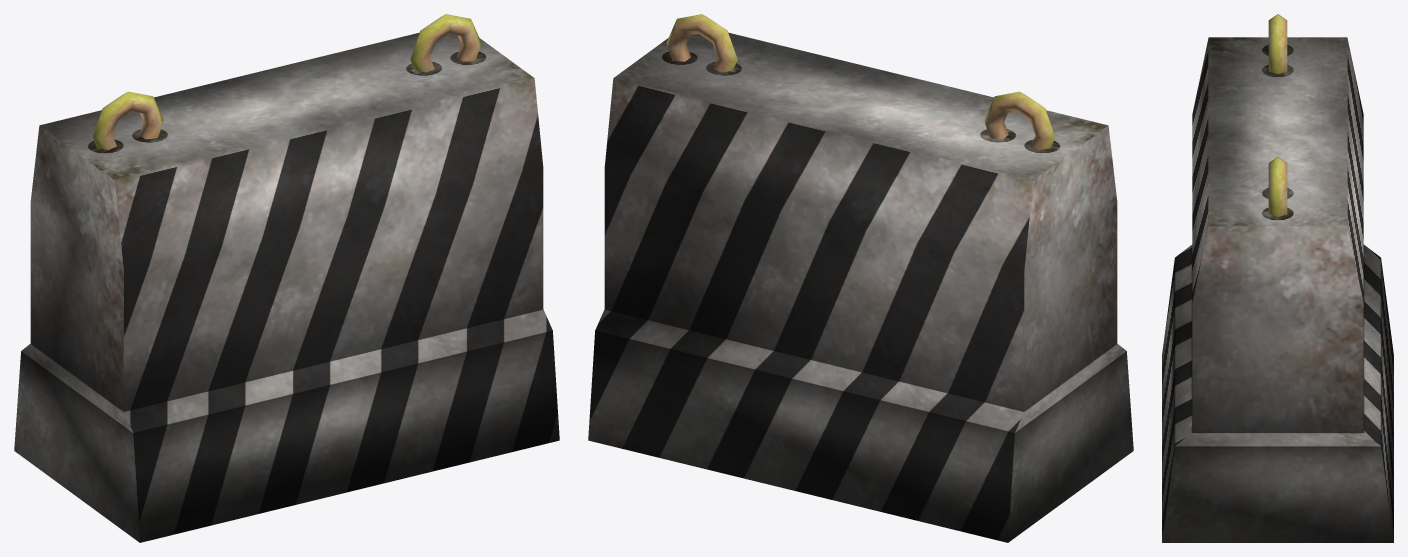
File: Barrier.FBX
3 renders of one model, left to right at view 1: azimuth 30°, elevation 25°; view 2: azimuth 150°, elevation 25°; view 3: azimuth 270°, elevation 25°, orthographic. The views are drawn at different scales.
Parts seen in each view (by area): view 1: Barrier; view 2: Barrier; view 3: Barrier.
Boxes of the visible parts, x1,y1,x2,y2 form: Barrier: (14, 14, 559, 542); Barrier: (588, 14, 1133, 542); Barrier: (1162, 14, 1393, 542).
Bounding box in the file's own units: 7.93 × 7.09 × 4.11.
